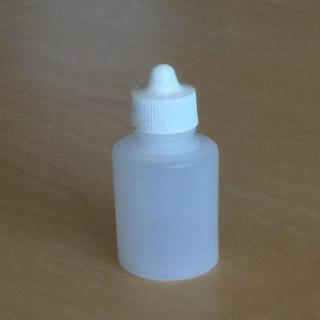Plastic-bottle: (107, 65, 229, 285)
